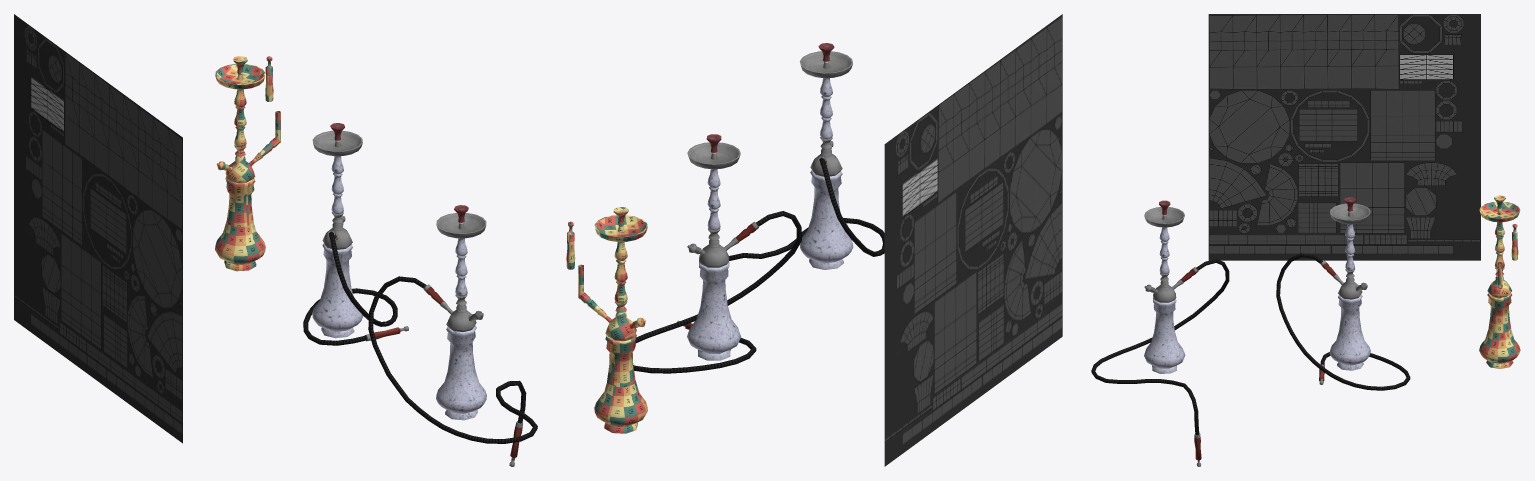
The model's file is hookah_nick.glb.
3 renders of one model, left to right at view 1: azimuth 30°, elevation 25°; view 2: azimuth 150°, elevation 25°; view 3: azimuth 270°, elevation 25°, orthographic. The views are drawn at different scales.
Visible parts, largest first — view 1: Plane_UV_0, Down.004_Hookah_0, Down.006_Cheker_0; view 2: Plane_UV_0, Down.004_Hookah_0, Down.006_Cheker_0; view 3: Plane_UV_0, Down.004_Hookah_0, Down.006_Cheker_0.
Boxes of the visible parts, box(x1,y1,x2,y2) form: Plane_UV_0: box(14, 14, 182, 443); Down.004_Hookah_0: box(303, 123, 537, 466); Down.006_Cheker_0: box(215, 56, 280, 271); Plane_UV_0: box(884, 14, 1062, 466); Down.004_Hookah_0: box(633, 43, 884, 373); Down.006_Cheker_0: box(566, 207, 647, 433); Plane_UV_0: box(1208, 14, 1480, 260); Down.004_Hookah_0: box(1091, 197, 1410, 466); Down.006_Cheker_0: box(1479, 195, 1520, 368).
Bounding box in the file's own units: 124 × 143 × 171.
3 materials, 3 textured.
